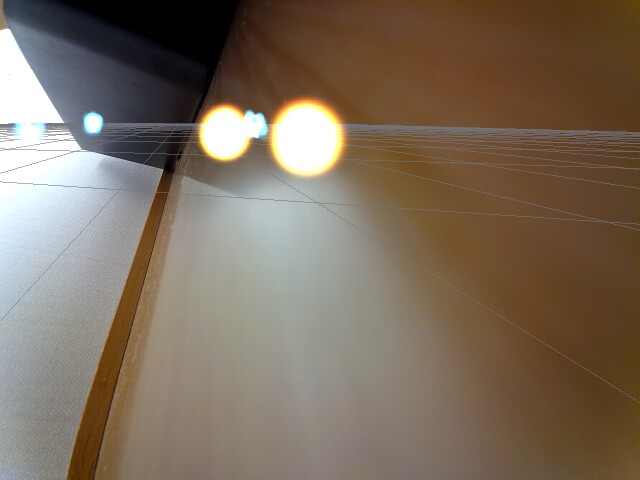firebig: (269, 90, 350, 178)
